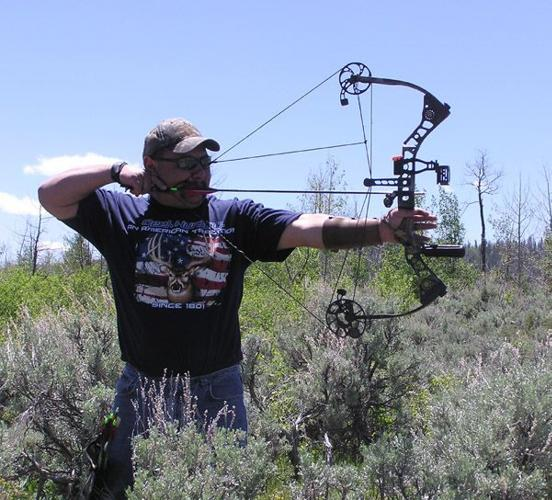person: (40, 115, 428, 494)
